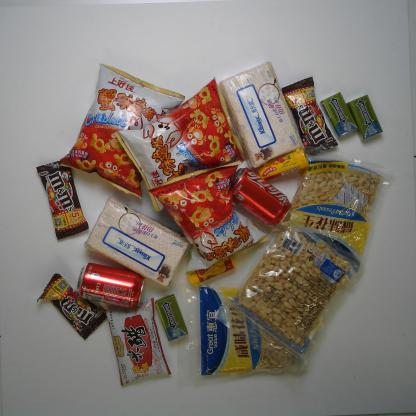Candy: (254, 149, 308, 180), (186, 255, 236, 285)
Chocolate: (279, 76, 339, 154), (38, 273, 109, 338), (37, 161, 88, 242)
Dried Fruit: (233, 224, 358, 358), (192, 282, 308, 380), (285, 154, 393, 258)
Drink: (229, 166, 292, 225), (76, 262, 146, 309)
Gum: (321, 92, 358, 139), (154, 294, 188, 343), (348, 96, 383, 140)
Puffed Food: (114, 78, 250, 211), (59, 64, 186, 201), (148, 162, 267, 274)
Seasoner: (105, 298, 171, 385)
Tissue: (219, 59, 306, 170), (85, 198, 190, 287)
